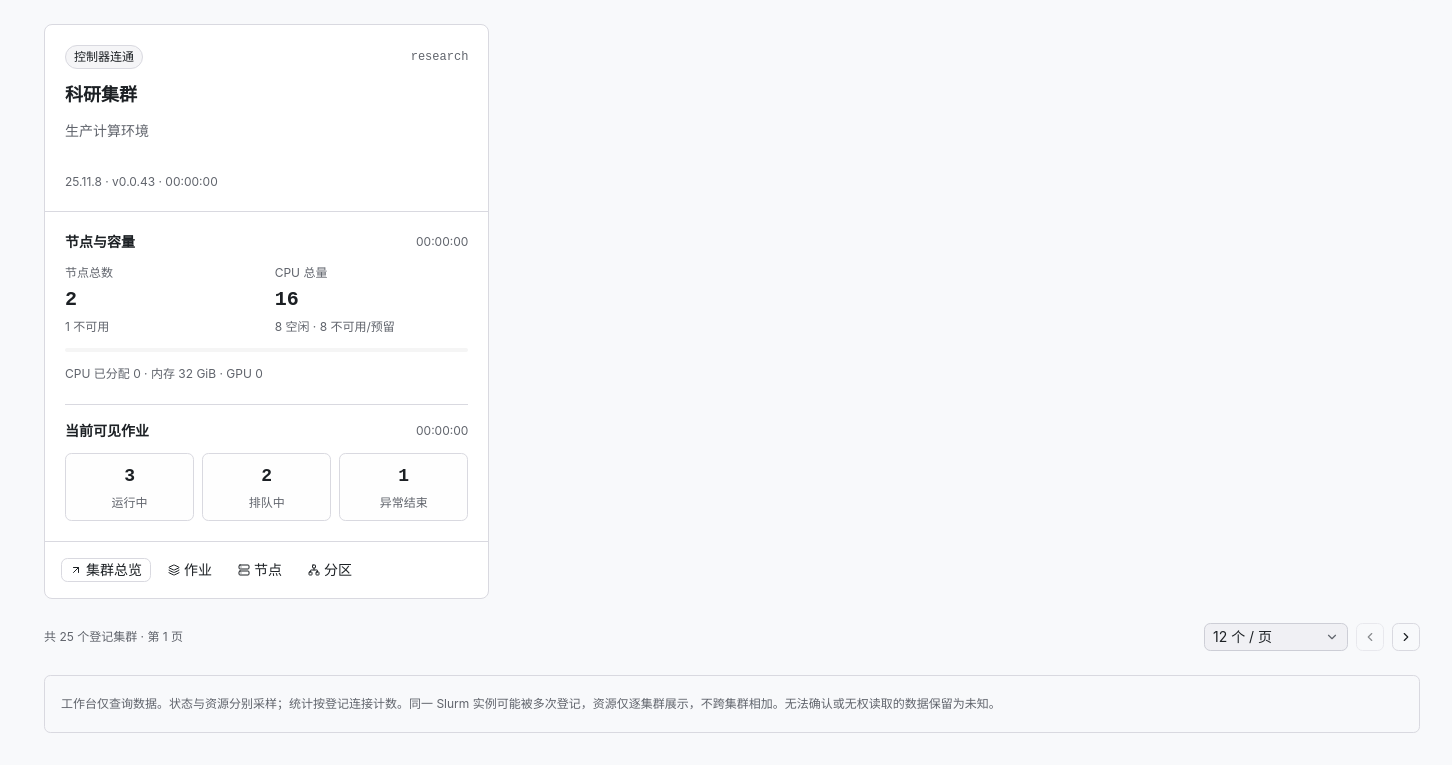
Test case: 工作台分页、筛选和排序由 URL 驱动，资源链接绑定集群
(page scrolled)
Expected: the element named "集群 科研集群" is shown, left=44, top=24, right=489, bottom=599
Click the button named "下一页集群" at (1406, 637), box left=1392, top=623, right=1420, bottom=651
(page scrolled)
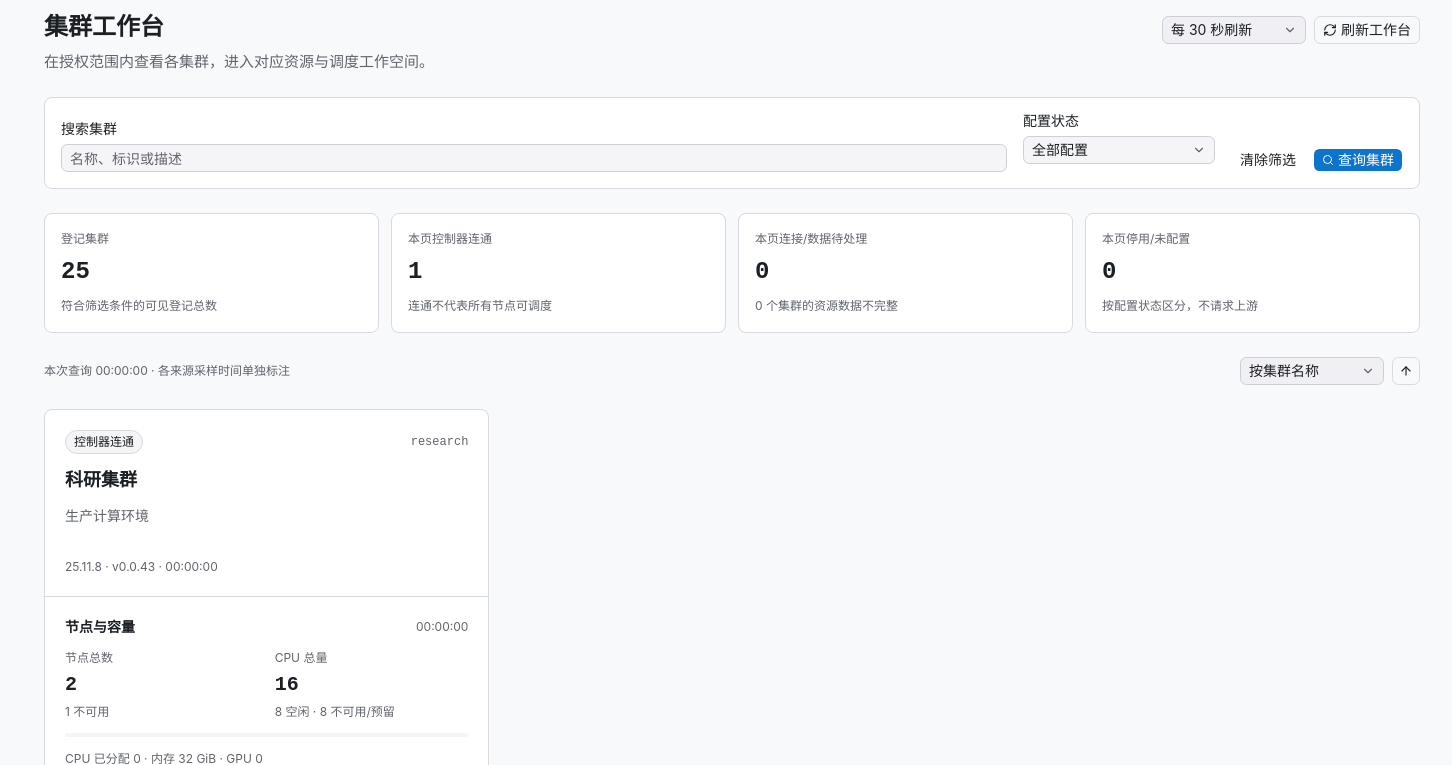
Type "research" into the field labelled "搜索集群" at (534, 158), box left=61, top=144, right=1007, bottom=172
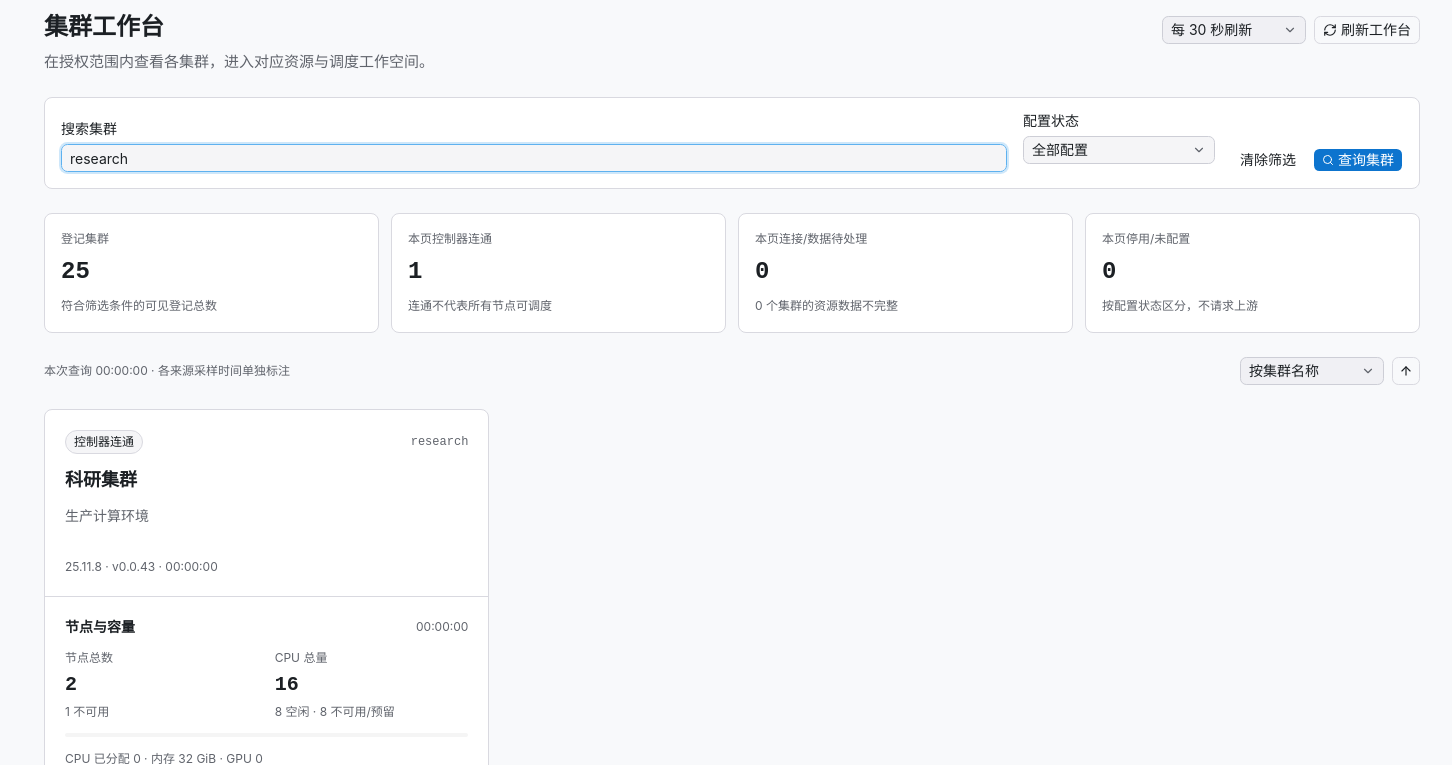
Click the button "查询集群" at (1358, 160), box left=1313, top=148, right=1403, bottom=172
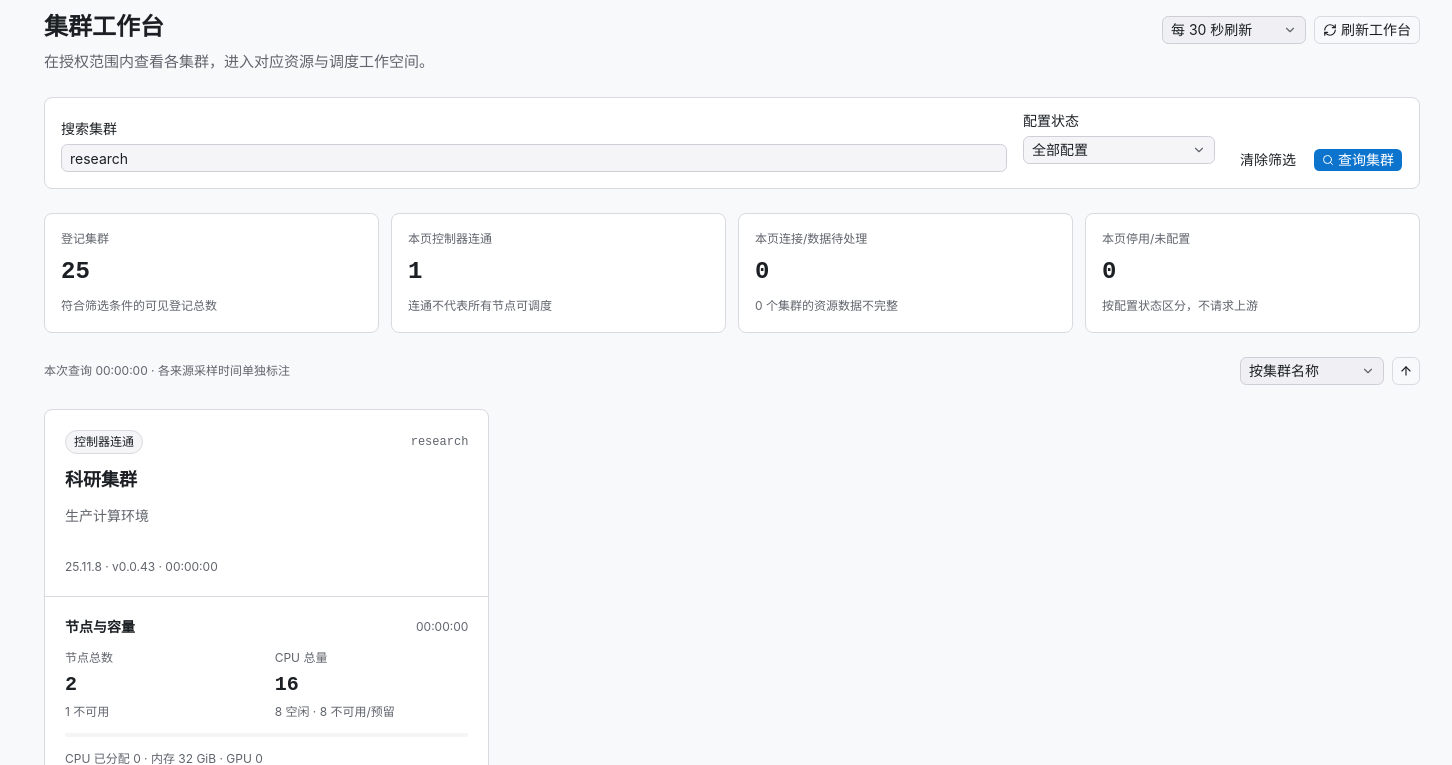
Click the button named "切换集群排序方向" at (1406, 371), box left=1392, top=357, right=1420, bottom=385
(page scrolled)
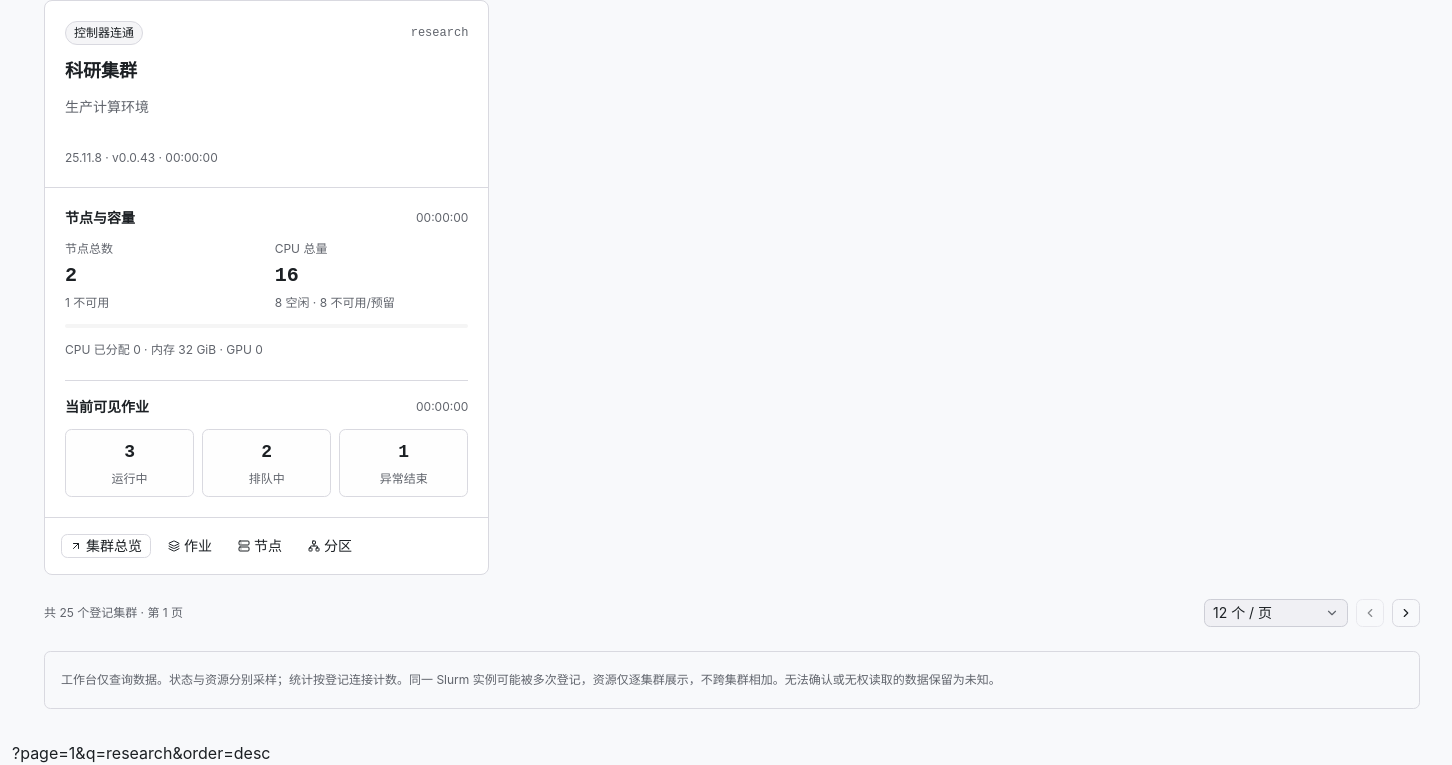
Result: the text named "当前查询" shows "order=desc" at left=12, top=743, right=270, bottom=763
